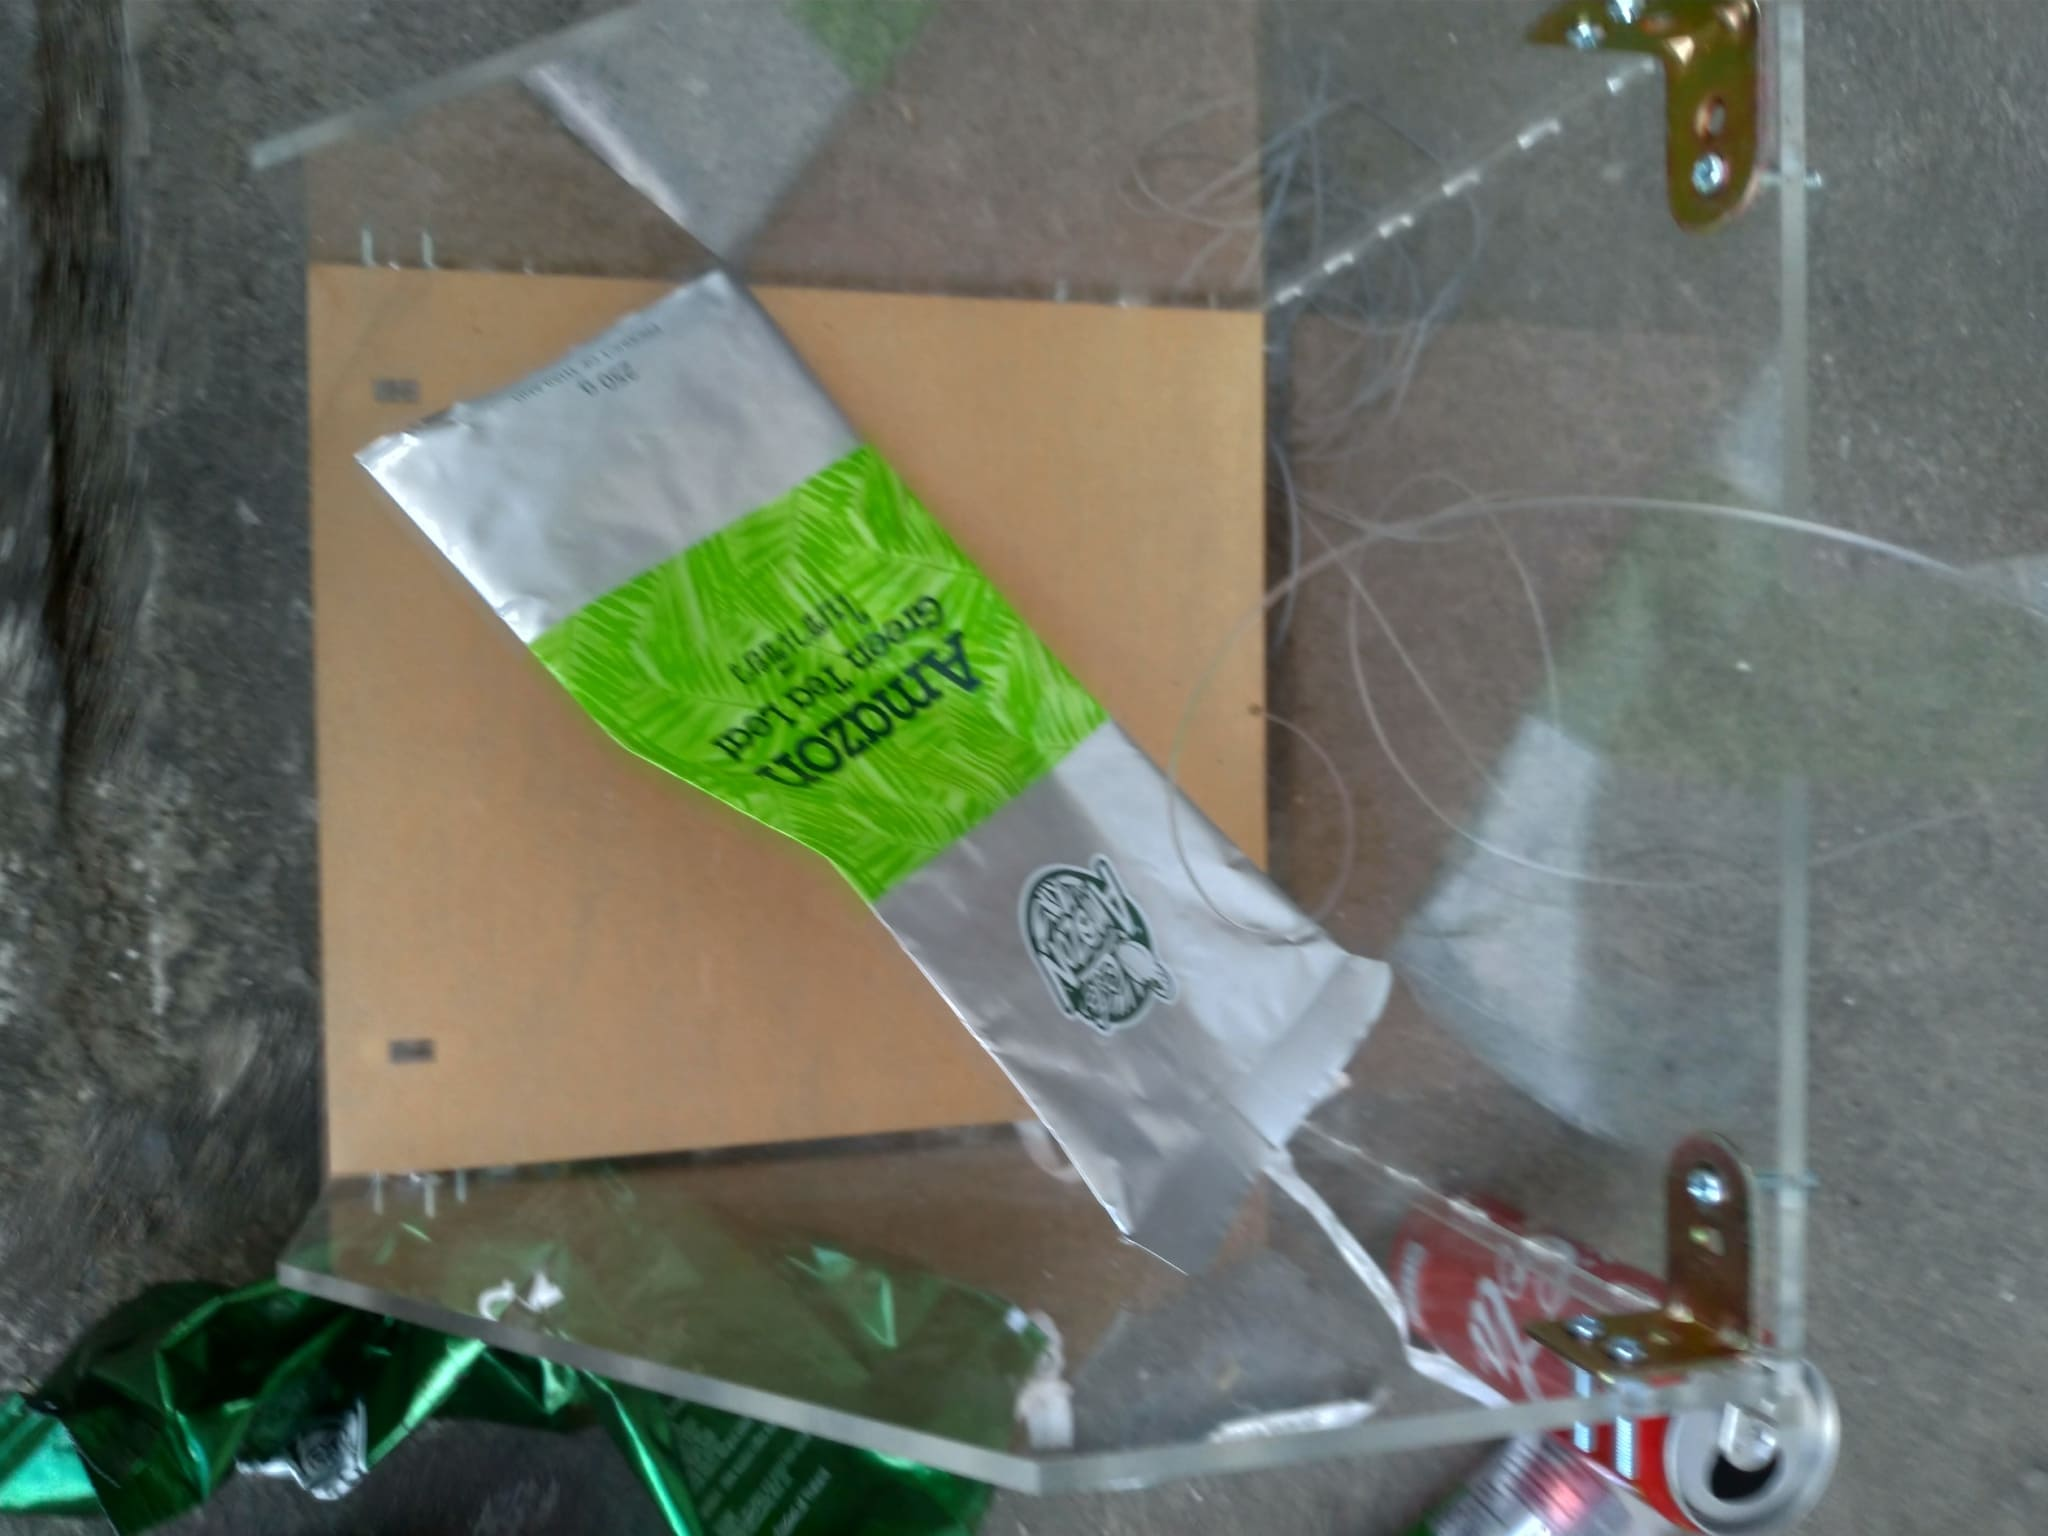AlCan: (1392, 1183, 1838, 1521)
Others: (347, 269, 1397, 1247), (6, 1220, 1040, 1536)
